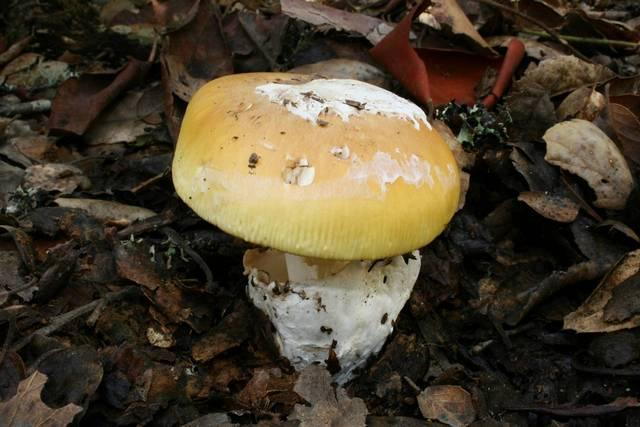edible_mushroom: (170, 69, 463, 385)
